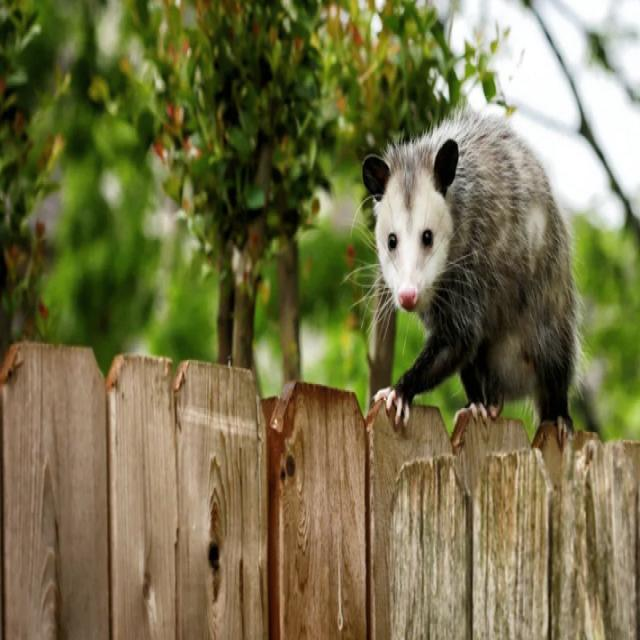possum: (362, 108, 580, 428)
